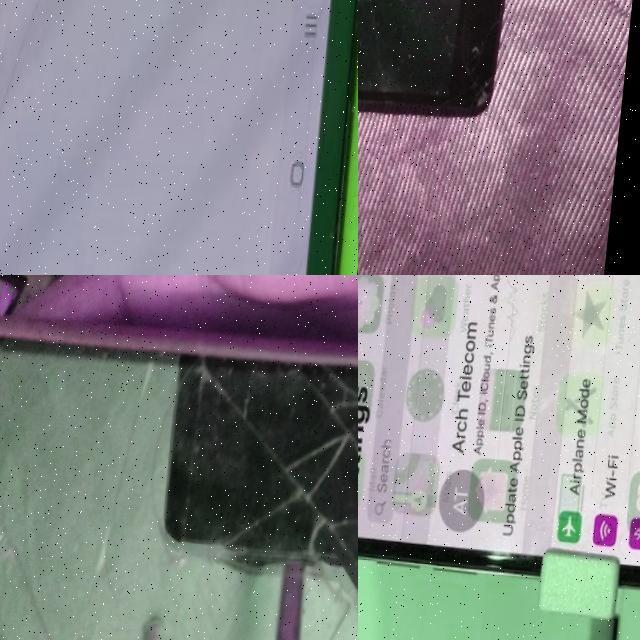screen crack: (0, 317, 358, 640), (0, 0, 86, 275), (358, 0, 520, 115)
